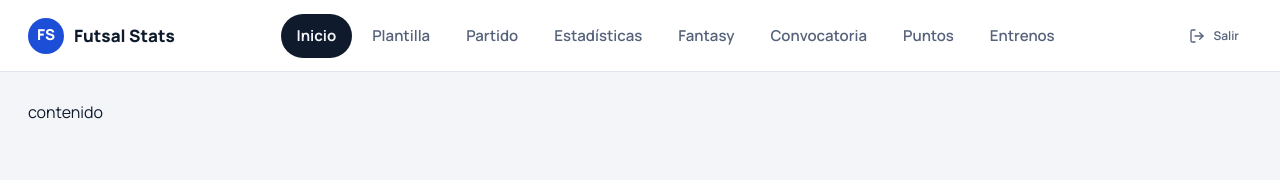
Test: AppShell › avisa si el cierre de sesión no se pudo confirmar
Click the button with aria-label "Cerrar sesión".
click(1214, 36)  # box [1176, 18, 1252, 54]
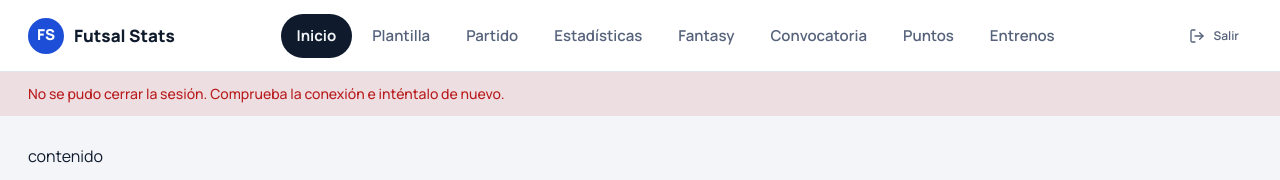
Check: the message shows "No se pudo cerrar la sesión", box [28, 84, 504, 103]
